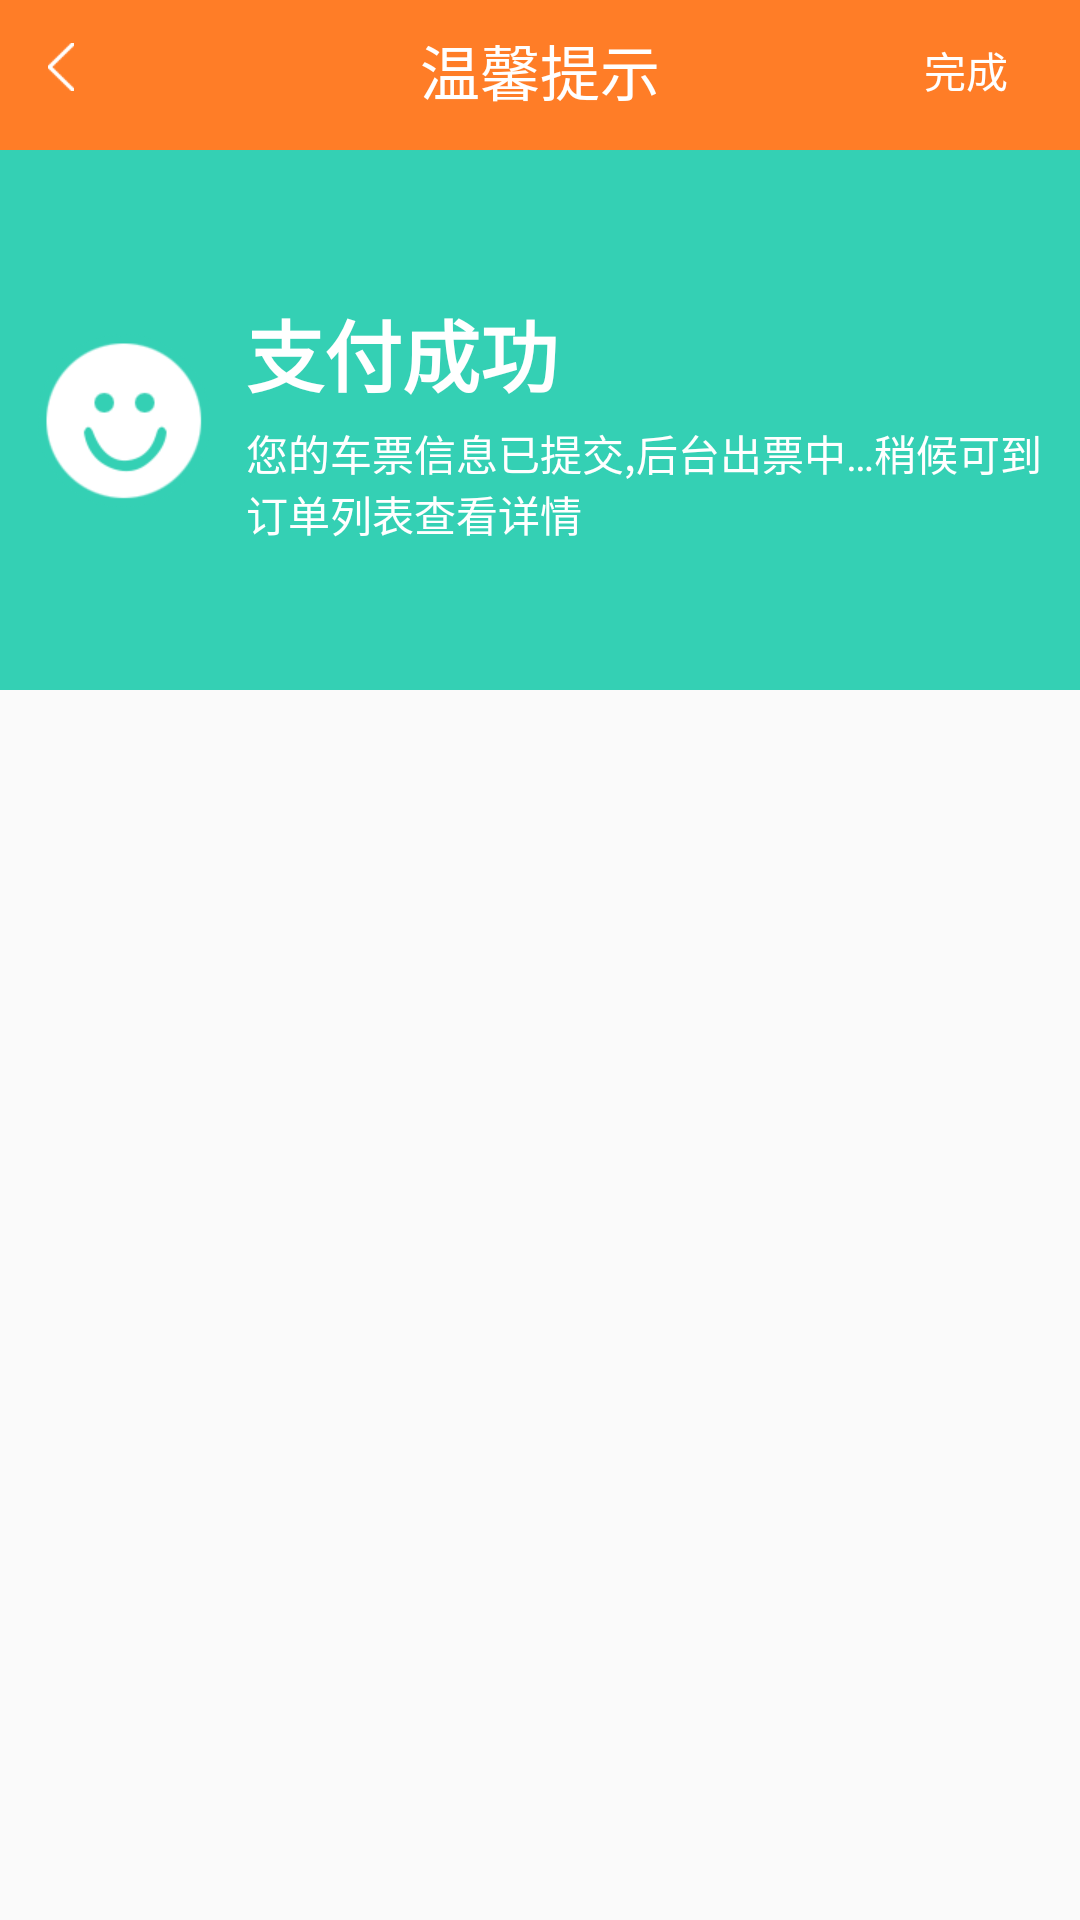

Where icons sit on this 1080*1920 app screen, as bbox=(x1, y1, x2, y2):
successful: bbox=(46, 343, 202, 499)
